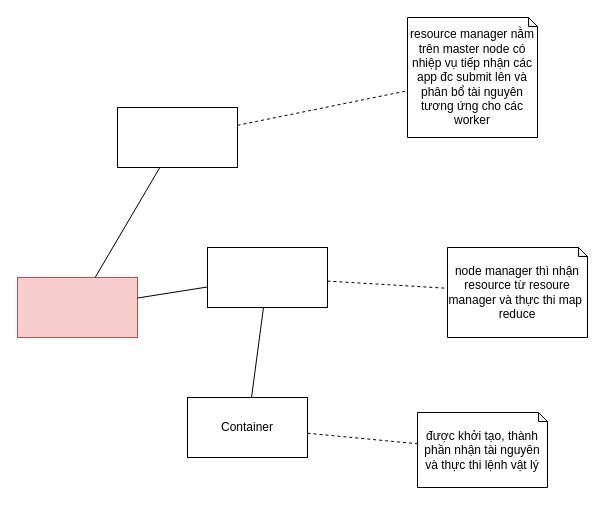
The diagram is 605 pixels wide and 505 high, and some of its shapes have lost their labels. The shapes that lost their labels are listed below. From the top down, each one's box as (x1, y1, x2, y2) in pixels, then its label:
(116, 106, 238, 168): Resource Manager
(206, 246, 328, 308): NodeManager
